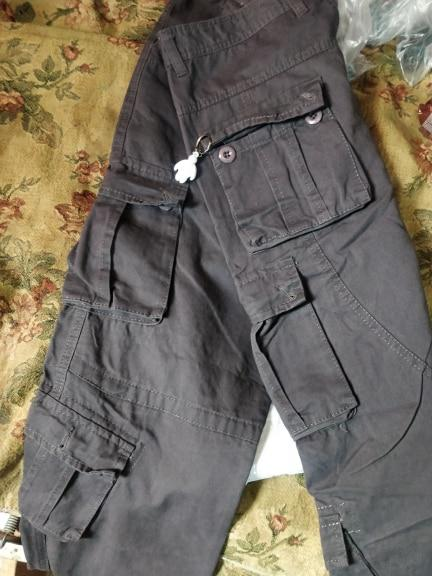pants: (48, 17, 432, 538)
